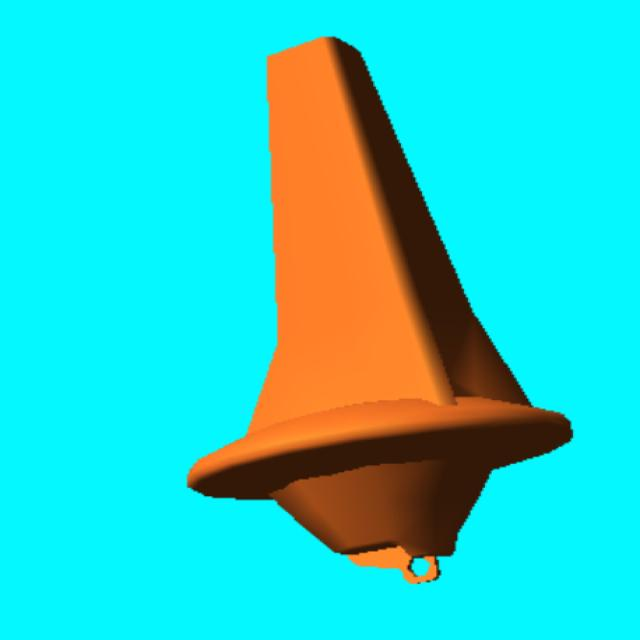OrangeBuoy: (188, 38, 572, 582)
